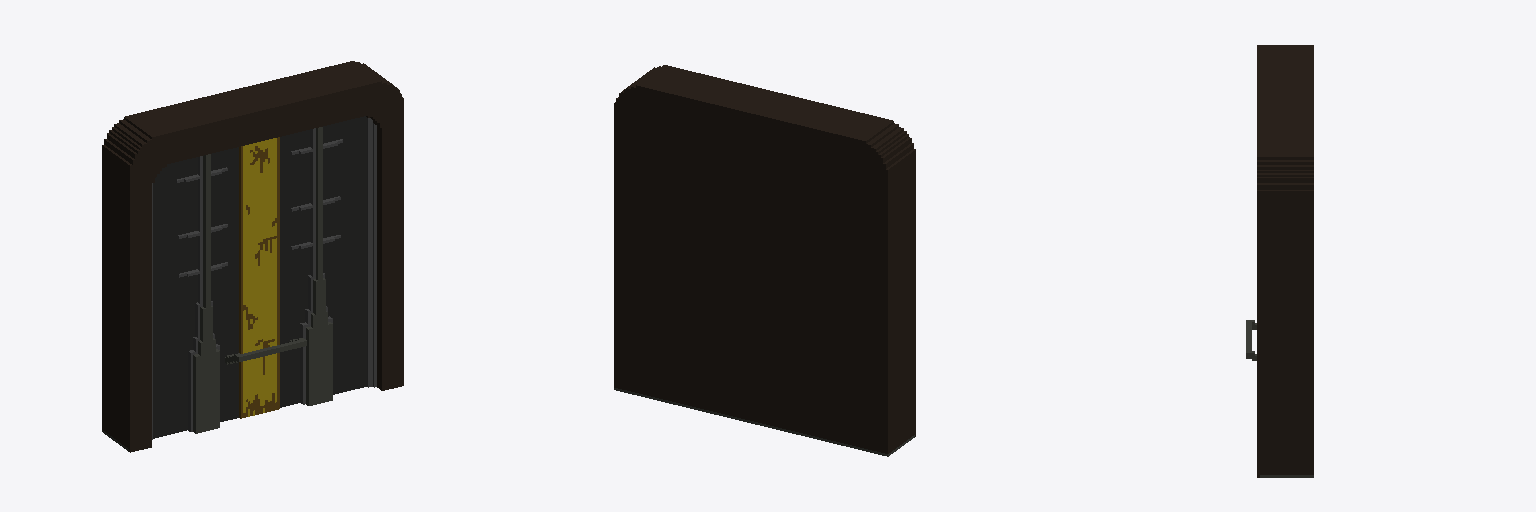
3 views of the same model, side by side, from view 1: azimuth 30°, elevation 25°; view 2: azimuth 150°, elevation 25°; view 3: azimuth 270°, elevation 25° (orthographic).
Parts seen in each view (by area): view 1: vaultdoorsmall; view 2: vaultdoorsmall; view 3: vaultdoorsmall.
Boxes of the visible parts, x1,y1,x2,y2 form: vaultdoorsmall: [102, 61, 403, 452]; vaultdoorsmall: [614, 65, 915, 456]; vaultdoorsmall: [1246, 45, 1313, 477].
Bounding box in the file's own units: 112 × 121 × 24.
Materials: 1 (1 with a texture image).